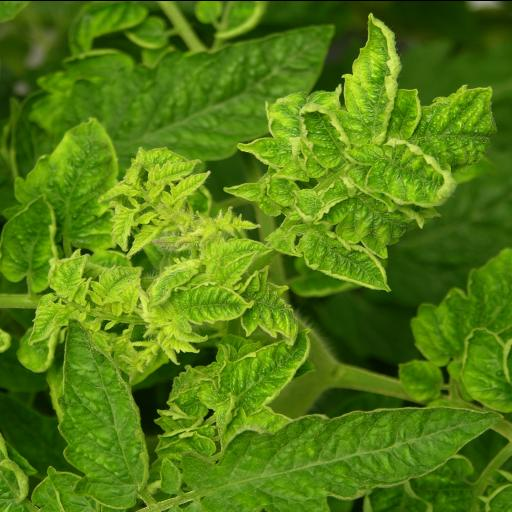disease_tomato: (170, 382, 492, 512), (50, 314, 148, 510), (201, 320, 320, 422), (46, 112, 122, 270), (332, 0, 406, 148), (358, 134, 470, 218), (284, 220, 400, 296), (400, 70, 494, 160), (0, 191, 59, 294), (292, 88, 352, 186), (234, 263, 298, 343), (168, 275, 250, 333), (460, 327, 512, 414), (193, 236, 270, 284), (146, 256, 202, 306), (86, 262, 144, 308), (26, 292, 74, 344), (45, 250, 91, 302), (393, 359, 449, 400), (232, 134, 292, 166), (124, 216, 168, 259), (168, 164, 209, 210), (262, 216, 304, 258), (290, 184, 326, 224), (107, 203, 136, 251), (148, 154, 189, 186), (264, 174, 302, 208), (216, 178, 266, 200)
